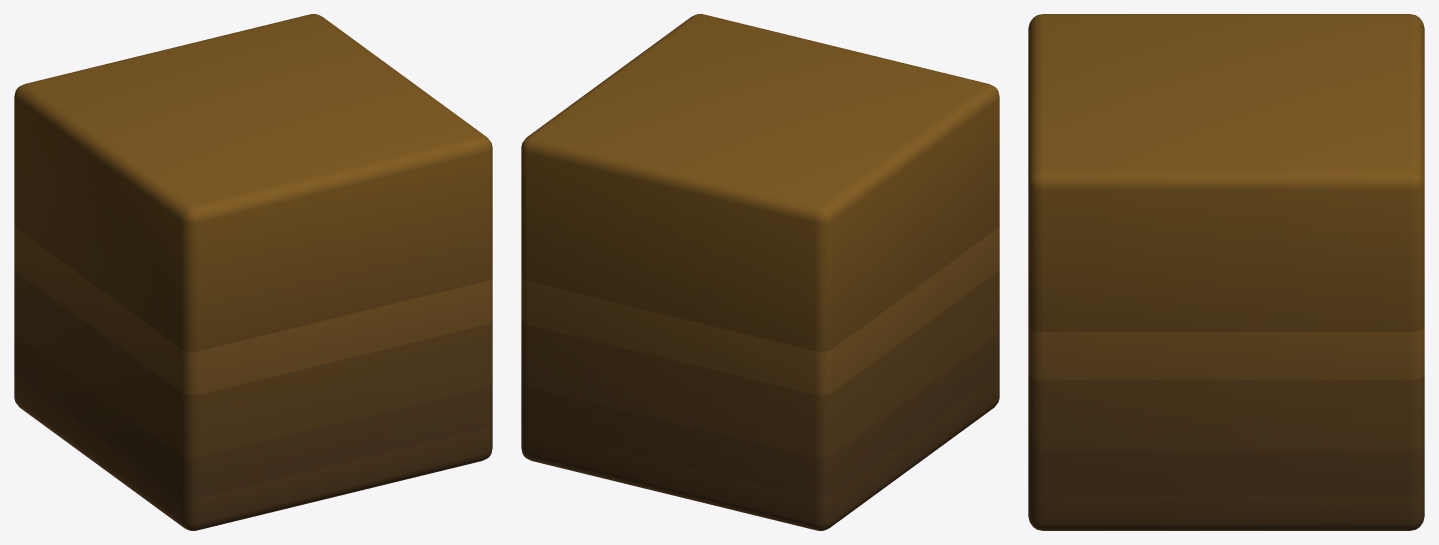
3 renders of one model, left to right at view 1: azimuth 30°, elevation 25°; view 2: azimuth 150°, elevation 25°; view 3: azimuth 270°, elevation 25°, orthographic. The views are drawn at different scales.
Parts seen in each view (by area): view 1: Cube_02; view 2: Cube_02; view 3: Cube_02.
Boxes of the visible parts, bbox=[...] form: Cube_02: bbox=[14, 14, 492, 530]; Cube_02: bbox=[521, 14, 999, 530]; Cube_02: bbox=[1028, 14, 1424, 530].
Size of the model in its own units: 2 by 2 by 2.
